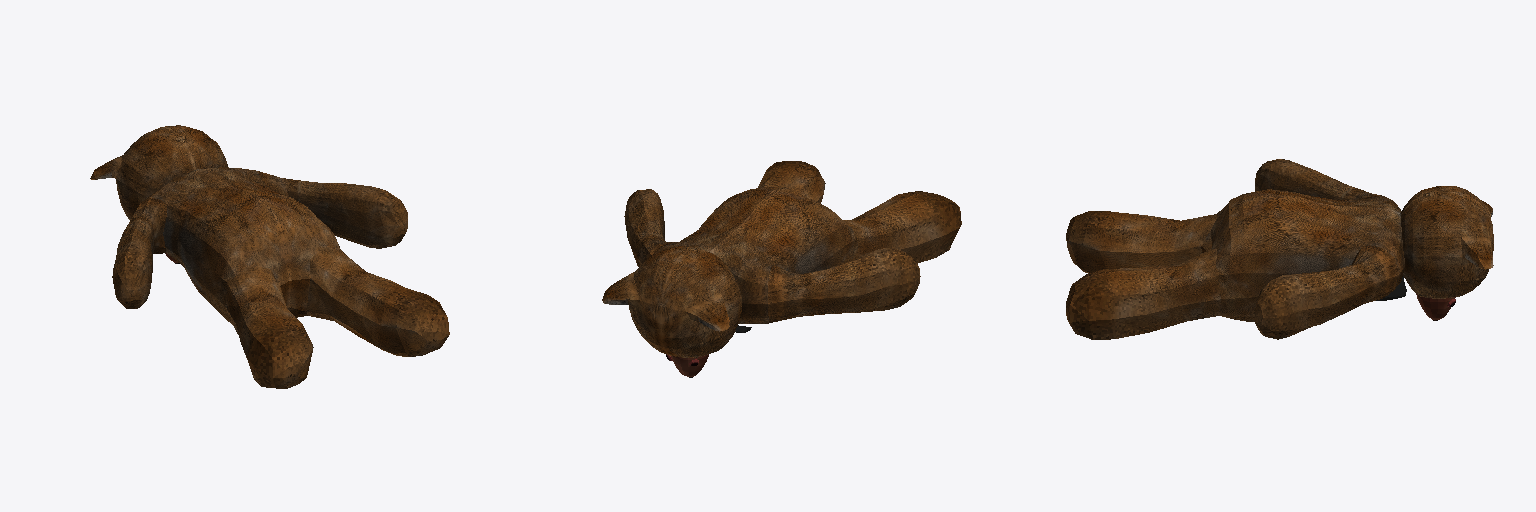
3 renders of one model, left to right at view 1: azimuth 30°, elevation 25°; view 2: azimuth 150°, elevation 25°; view 3: azimuth 270°, elevation 25°, orthographic.
Visible parts, largest first — view 1: Scene_Root; view 2: Scene_Root; view 3: Scene_Root.
Boxes of the visible parts, <box> form: Scene_Root: <box>90,125,449,388</box>; Scene_Root: <box>602,161,961,377</box>; Scene_Root: <box>1066,159,1493,339</box>.
Size of the model in its own units: 4.22 by 1.79 by 5.42.
1 materials, 1 textured.